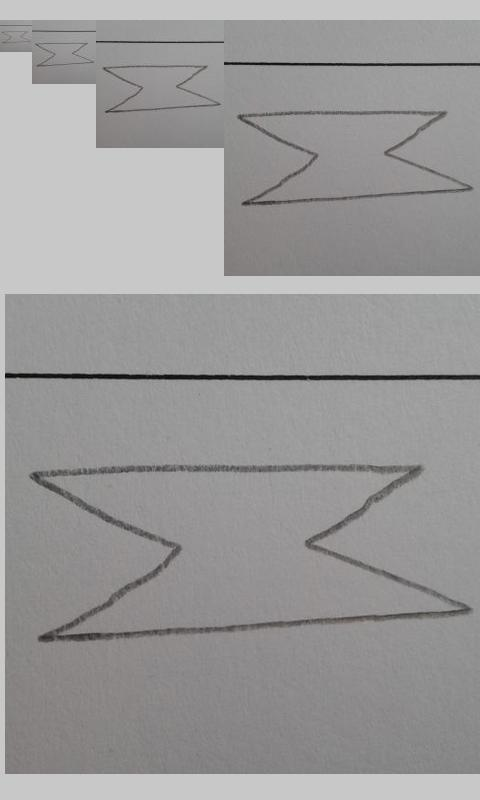edit_text: (26, 461, 472, 642), (235, 109, 476, 205), (102, 64, 221, 114), (35, 41, 94, 67), (1, 30, 31, 44)
